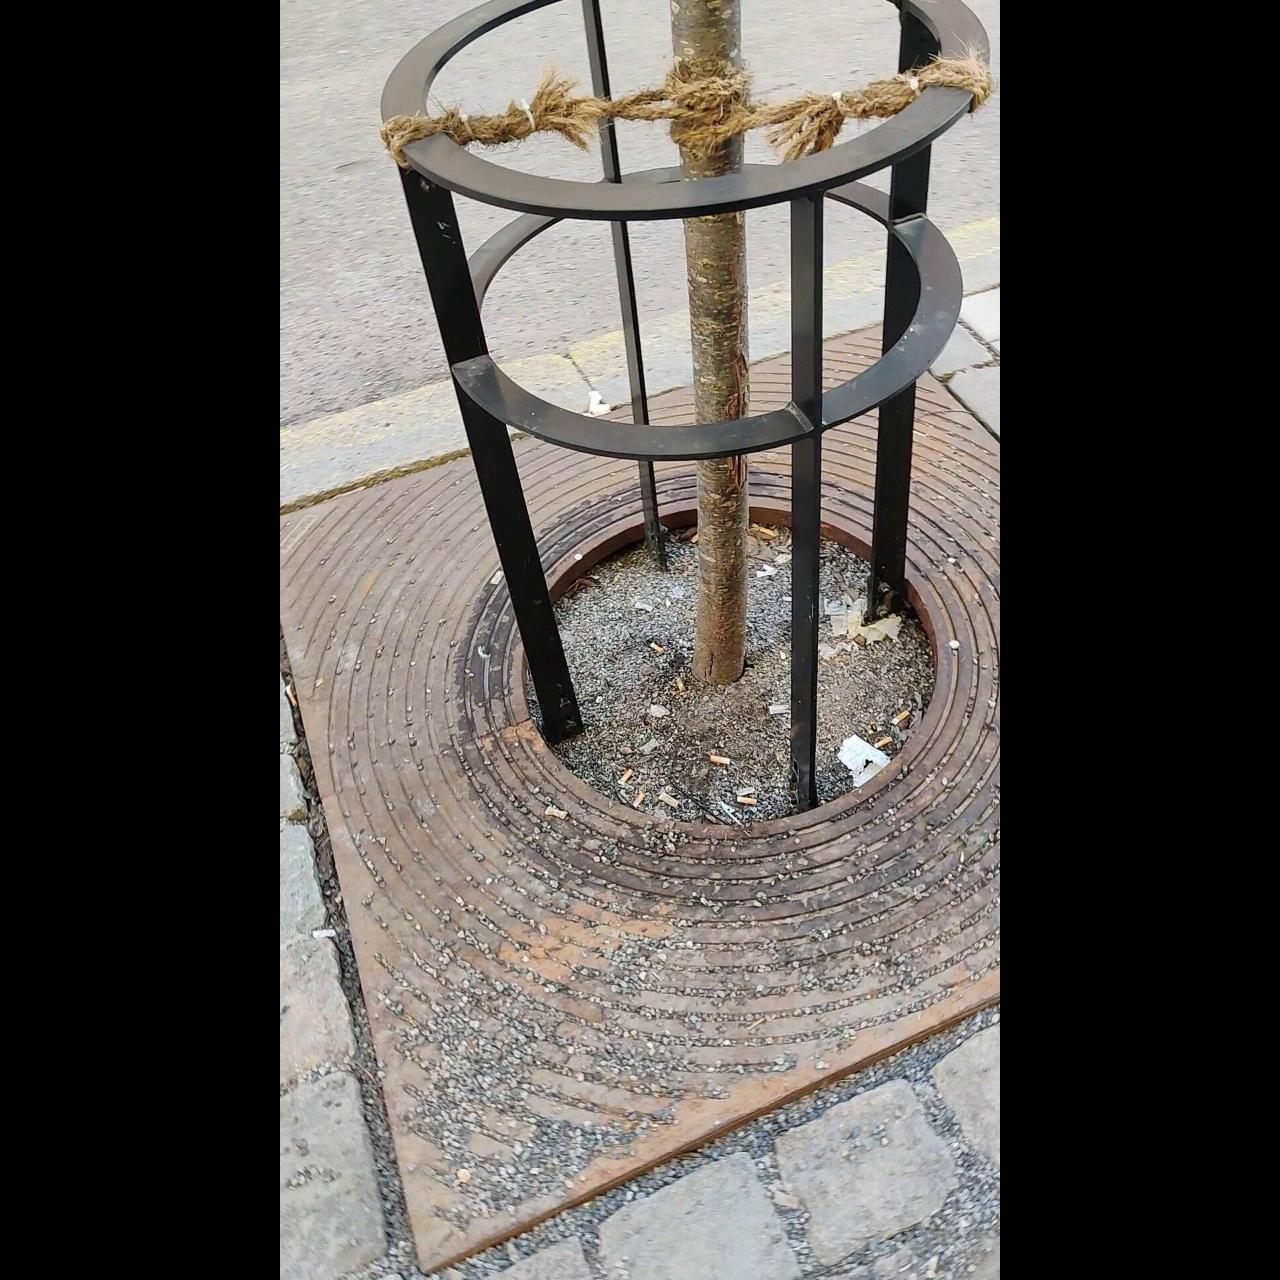cigarettes_butts: (542, 804, 572, 819), (285, 686, 301, 710), (892, 709, 912, 727), (659, 792, 681, 808), (707, 755, 734, 767), (873, 736, 894, 749), (735, 795, 756, 806), (618, 769, 634, 783), (634, 790, 648, 806), (674, 676, 688, 692), (648, 641, 666, 653), (758, 523, 774, 536), (690, 531, 700, 544)
others: (770, 1186, 804, 1212), (312, 928, 342, 940), (765, 703, 790, 717), (489, 570, 504, 586)
